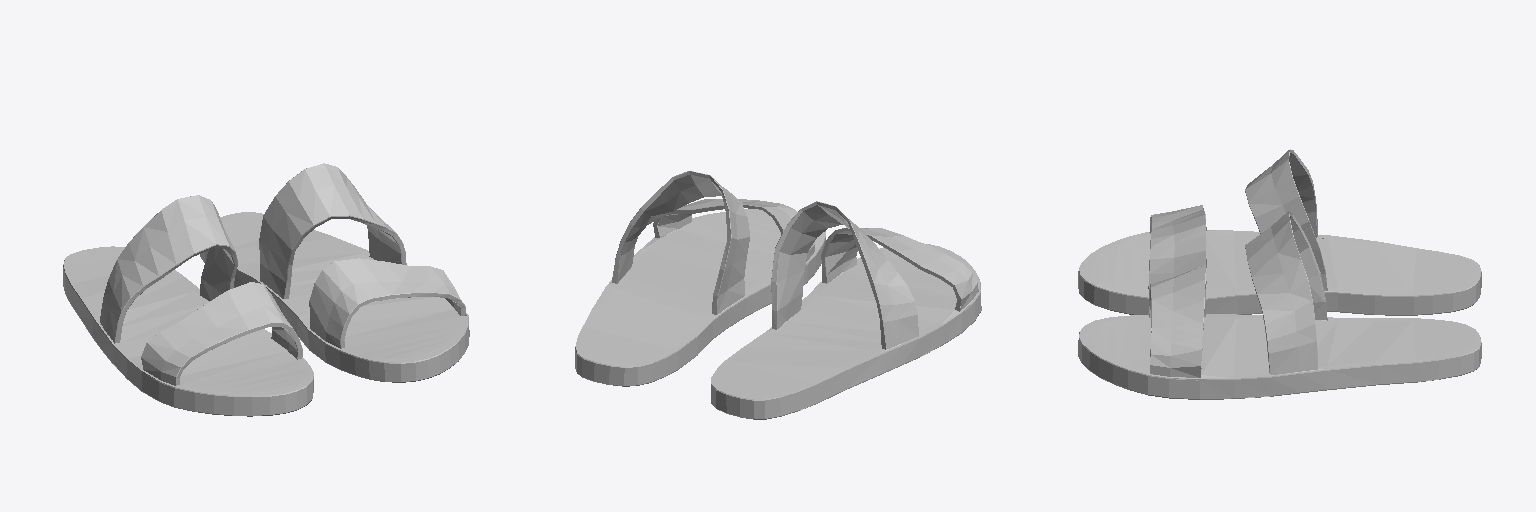
File: shoe_floaters_2.obj
The picture shows the model from 3 angles: view 1: azimuth 30°, elevation 25°; view 2: azimuth 150°, elevation 25°; view 3: azimuth 270°, elevation 25°; orthographic projection.
Visible parts, largest first — view 1: Mesh4, Mesh009, Mesh2, Mesh011, Mesh1, Mesh012; view 2: Mesh4, Mesh009, Mesh2, Mesh011, Mesh1, Mesh012; view 3: Mesh009, Mesh4, Mesh011, Mesh012, Mesh2, Mesh1.
Boxes of the visible parts, <box> form: Mesh4: <box>63,246,313,416</box>; Mesh009: <box>200,212,469,382</box>; Mesh2: <box>100,195,237,342</box>; Mesh011: <box>259,163,406,298</box>; Mesh1: <box>141,282,302,385</box>; Mesh012: <box>309,258,466,348</box>; Mesh4: <box>711,243,981,419</box>; Mesh009: <box>575,209,825,386</box>; Mesh2: <box>771,201,918,349</box>; Mesh011: <box>612,171,749,314</box>; Mesh1: <box>821,227,978,311</box>; Mesh012: <box>653,199,814,261</box>; Mesh009: <box>1078,314,1481,399</box>; Mesh4: <box>1078,230,1481,315</box>; Mesh011: <box>1245,211,1327,374</box>; Mesh012: <box>1148,265,1206,377</box>; Mesh2: <box>1245,149,1327,290</box>; Mesh1: <box>1148,205,1206,288</box>.
Bounding box in the file's own units: 17.36 × 7.65 × 19.64.